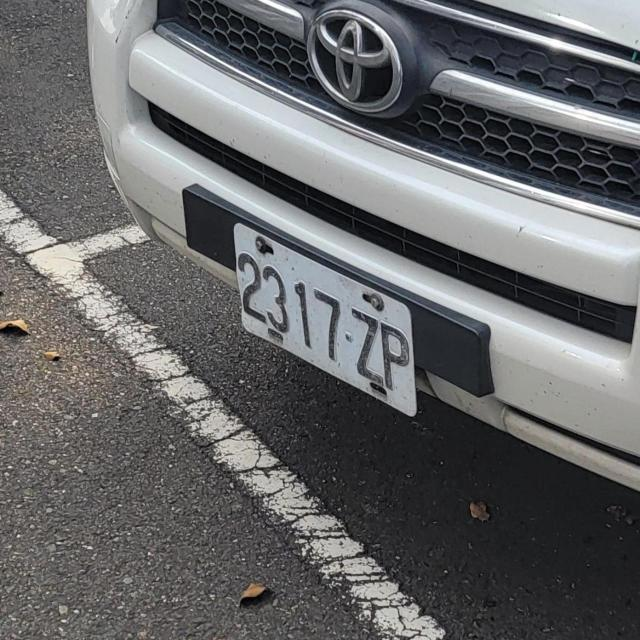W: (226, 222, 429, 419)
